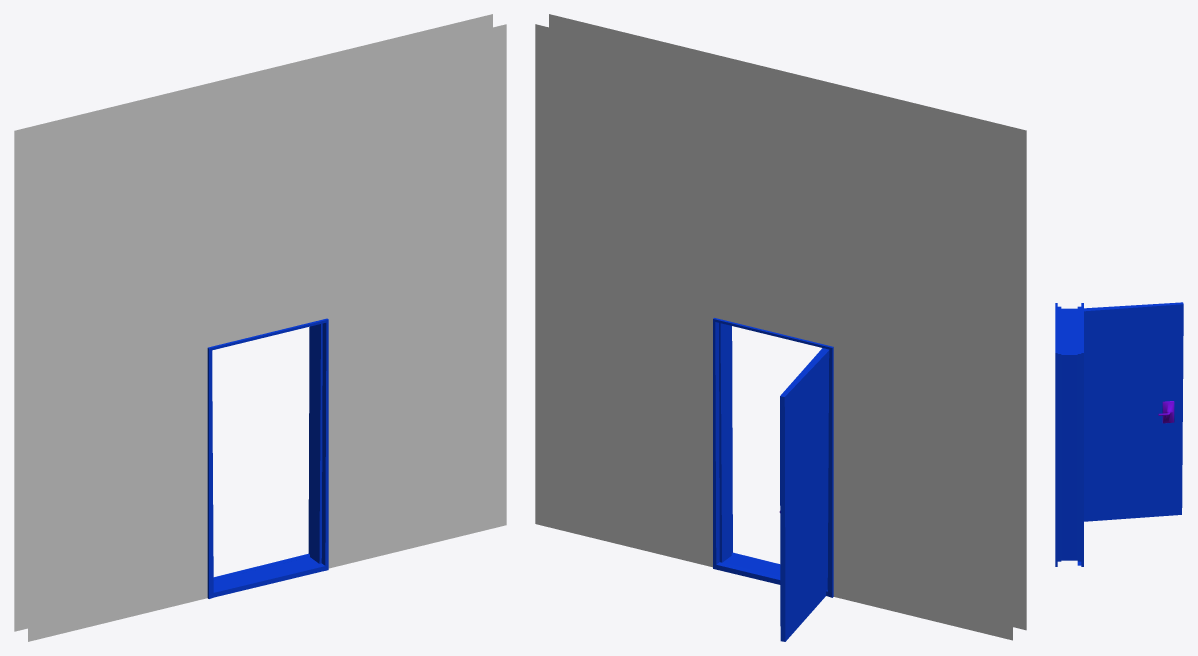
The model's file is SM_WallOffice_DoorOpen.fbx.
The picture shows the model from 3 angles, left to right: view 1: azimuth 30°, elevation 25°; view 2: azimuth 150°, elevation 25°; view 3: azimuth 270°, elevation 25°; orthographic projection. The views are drawn at different scales.
Parts seen in each view (by area): view 1: WallOffice_DoorOpen; view 2: WallOffice_DoorOpen; view 3: WallOffice_DoorOpen.
Part boxes in pixels (box(x1,y1,x2,y2)): WallOffice_DoorOpen: box(14, 14, 506, 641); WallOffice_DoorOpen: box(535, 14, 1026, 641); WallOffice_DoorOpen: box(1055, 302, 1183, 566).
Size of the model in its own units: 400 by 400 by 109.
